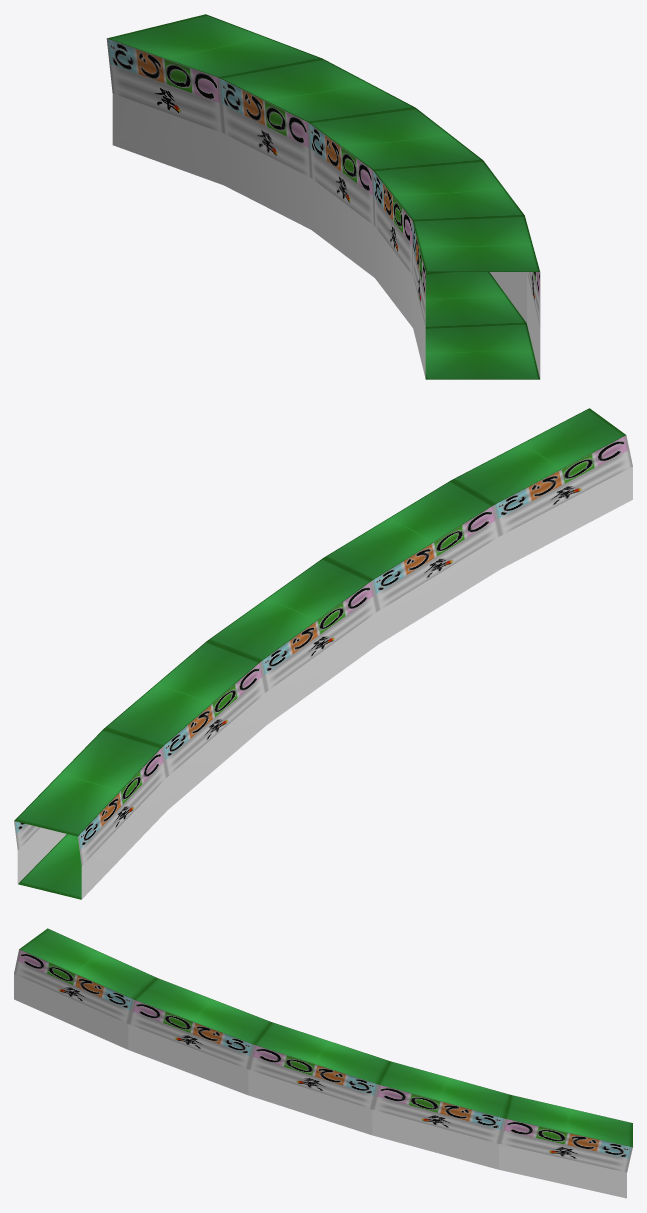
The model's file is CourseSpring_Box_Wall_L_8.fbx.
The picture shows the model from 3 angles, top to bottom: view 1: azimuth 30°, elevation 25°; view 2: azimuth 150°, elevation 25°; view 3: azimuth 270°, elevation 25°; orthographic projection. The views are drawn at different scales.
Visible parts, largest first — view 1: polySurface50; view 2: polySurface50; view 3: polySurface50.
Boxes of the visible parts, x1,y1,x2,y2 form: polySurface50: (106,14,540,379); polySurface50: (14,408,632,899); polySurface50: (14,928,632,1198).
Size of the model in its own units: 7.47 by 6.98 by 21.62.
Materials: 1 (1 with a texture image).
